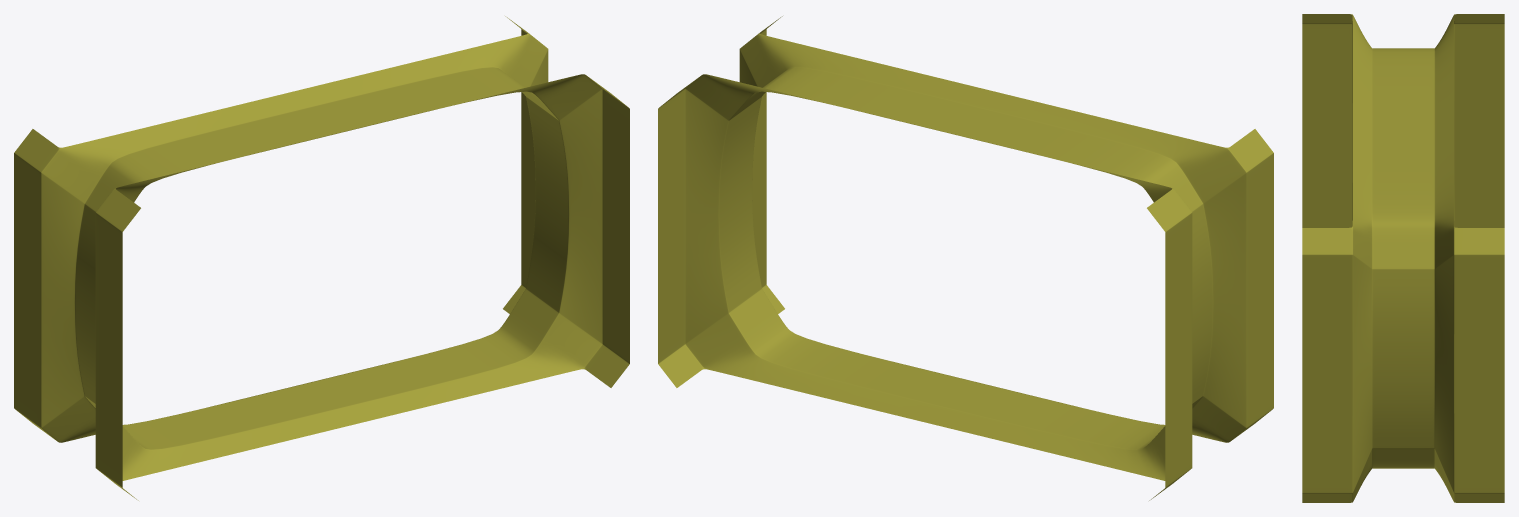
The model's file is SpacerHigh.FBX.
3 renders of one model, left to right at view 1: azimuth 30°, elevation 25°; view 2: azimuth 150°, elevation 25°; view 3: azimuth 270°, elevation 25°, orthographic. The views are drawn at different scales.
Parts seen in each view (by area): view 1: SM_MidSpan-Cooridor_E; view 2: SM_MidSpan-Cooridor_E; view 3: SM_MidSpan-Cooridor_E.
Part boxes in pixels (bbox=[...]): SM_MidSpan-Cooridor_E: bbox=[14, 16, 629, 500]; SM_MidSpan-Cooridor_E: bbox=[658, 16, 1273, 500]; SM_MidSpan-Cooridor_E: bbox=[1302, 14, 1504, 502].
Bounding box in the file's own units: 213 × 78.74 × 118.
